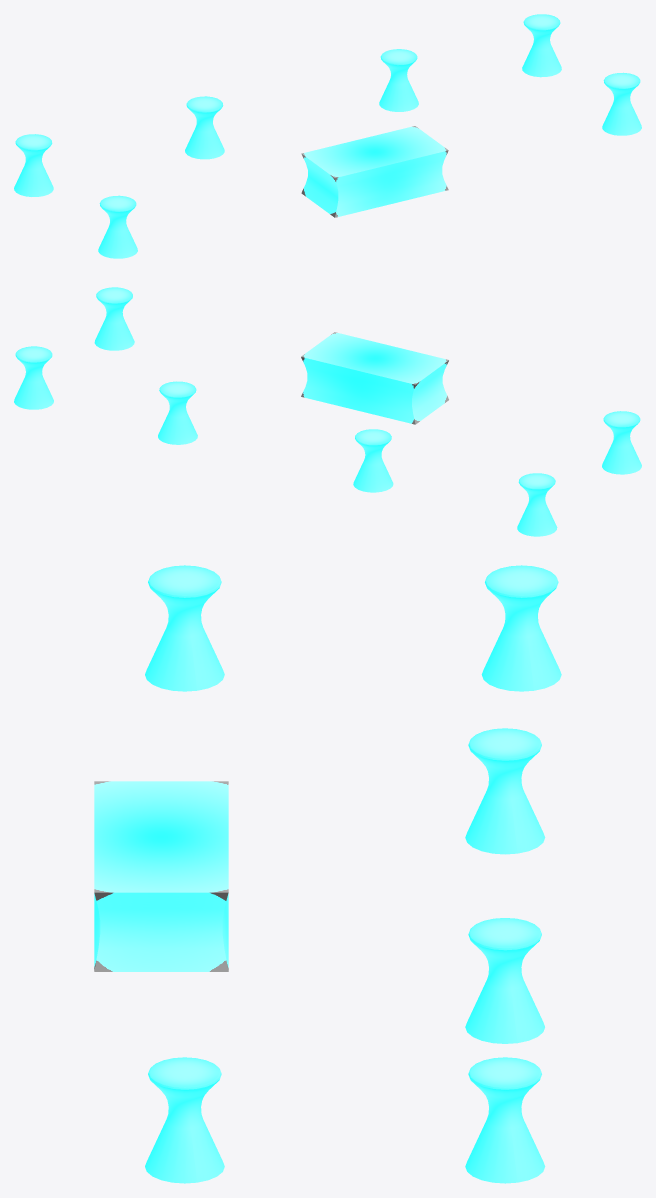
File: finaldj.fbx
3 views of the same model, one above another, from view 1: azimuth 30°, elevation 25°; view 2: azimuth 150°, elevation 25°; view 3: azimuth 270°, elevation 25° (orthographic). The views are drawn at different scales.
Visible parts, largest first — view 1: djtable, dance_table4, dance_table3, dance_table5, dance_table1, dance_table2, dance_table; view 2: djtable, dance_table1, dance_table2, dance_table3, dance_table, dance_table4, dance_table5; view 3: djtable, dance_table1, dance_table2, dance_table5, dance_table4, dance_table3, dance_table.
Boxes of the visible parts, x1,y1,x2,y2 form: djtable: [301, 126, 448, 217]; dance_table4: [379, 49, 418, 111]; dance_table3: [522, 14, 561, 77]; dance_table5: [185, 96, 224, 159]; dance_table1: [98, 195, 137, 258]; dance_table2: [602, 72, 641, 135]; dance_table: [14, 134, 53, 196]; djtable: [301, 332, 448, 424]; dance_table1: [602, 411, 641, 474]; dance_table2: [94, 287, 134, 350]; dance_table3: [14, 346, 53, 409]; dance_table: [517, 473, 557, 536]; dance_table4: [158, 381, 197, 444]; dance_table5: [353, 429, 393, 492]; djtable: [94, 781, 228, 971]; dance_table1: [145, 565, 224, 691]; dance_table2: [145, 1057, 224, 1183]; dance_table5: [465, 728, 545, 854]; dance_table4: [465, 918, 544, 1043]; dance_table3: [465, 1057, 545, 1183]; dance_table: [481, 565, 561, 691].
Bounding box in the file's own units: 1316 × 111 × 495.
2 materials, 2 textured.
